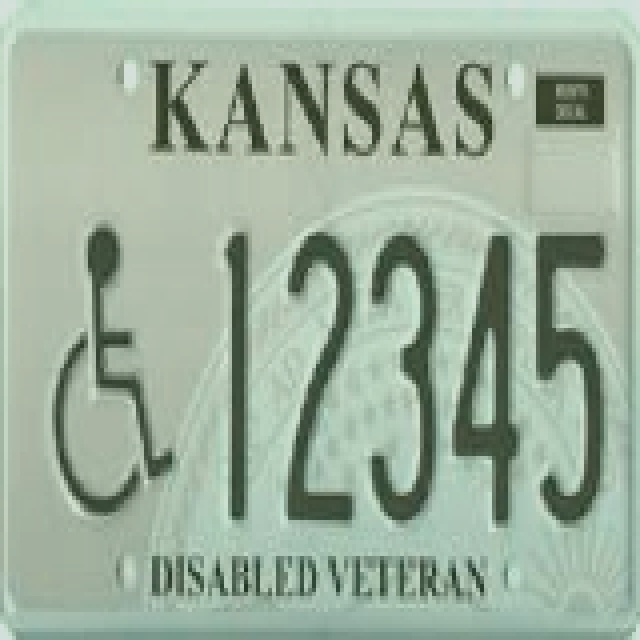ISA: (50, 222, 171, 514)
